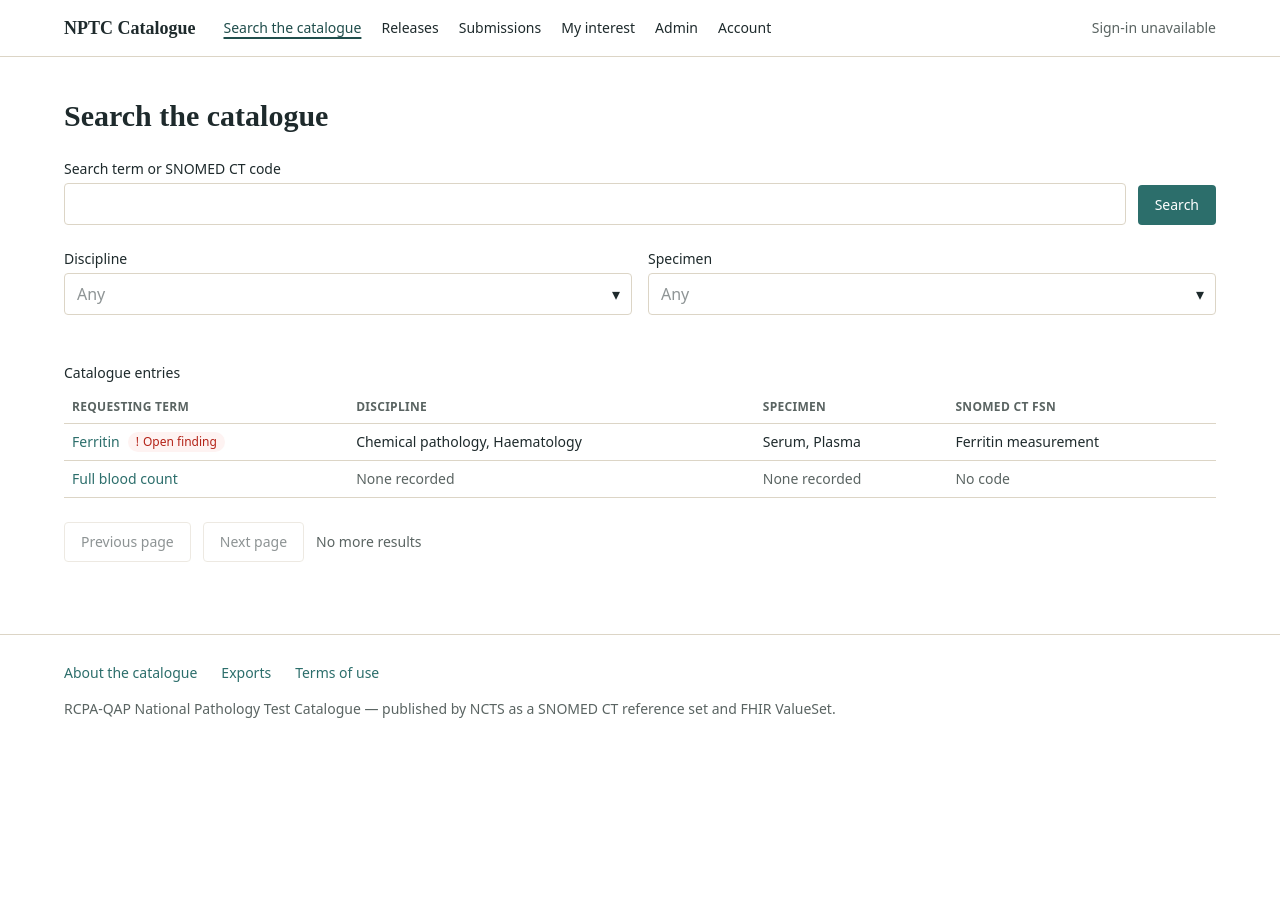
it: CatalogueSearchPage › lists each option with its count, most common first, and narrows as the user types
Click the dropdown labelled "Discipline".
click(348, 294)  # box [64,272,632,314]
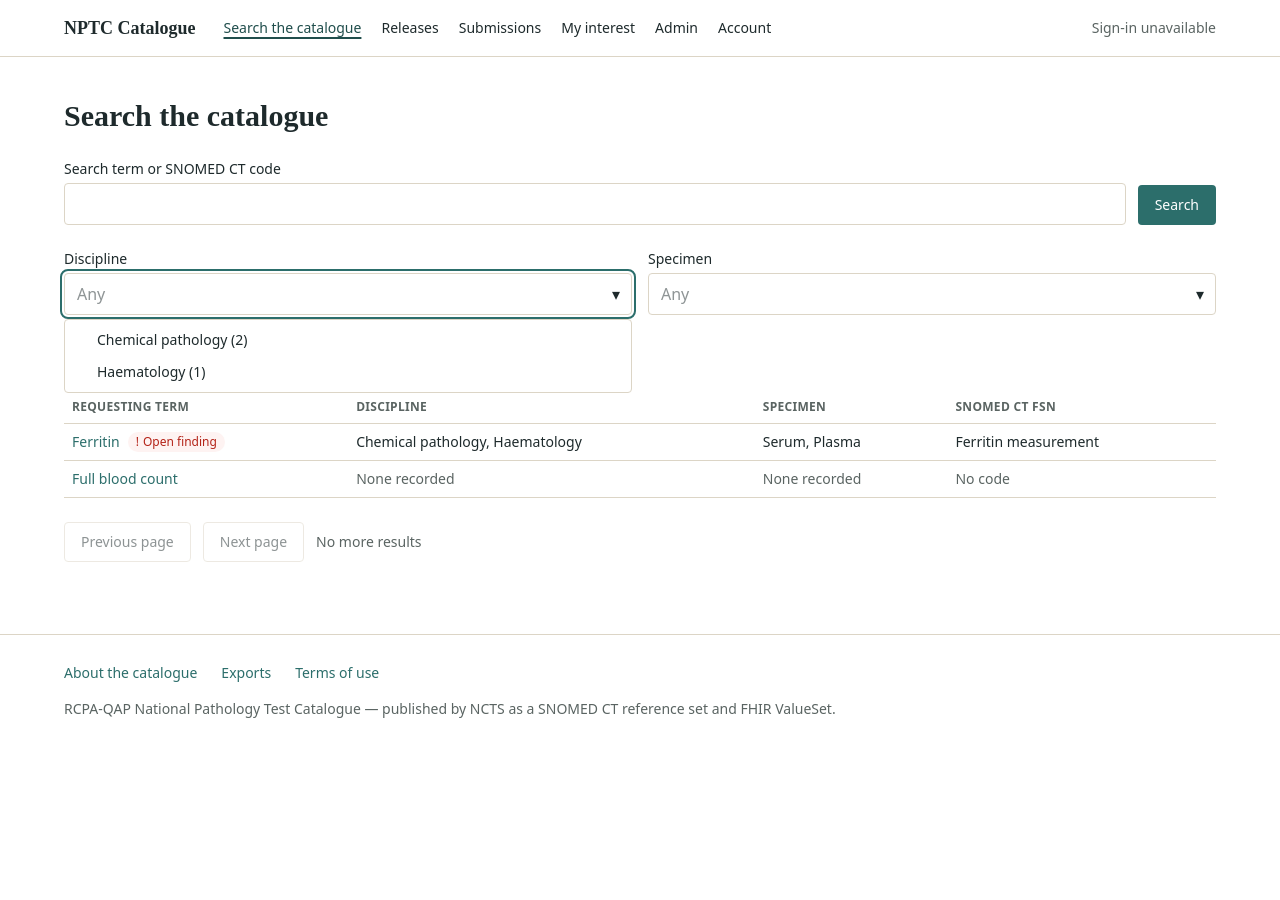
Expected: the options read "Chemical pathology (2)", "Haematology (1)", in this order, [97,330,248,349]; [97,362,206,381]
Type "haem" into the dropdown labelled "Discipline".
click(348, 294); type("haem")  # box [64,272,632,314]
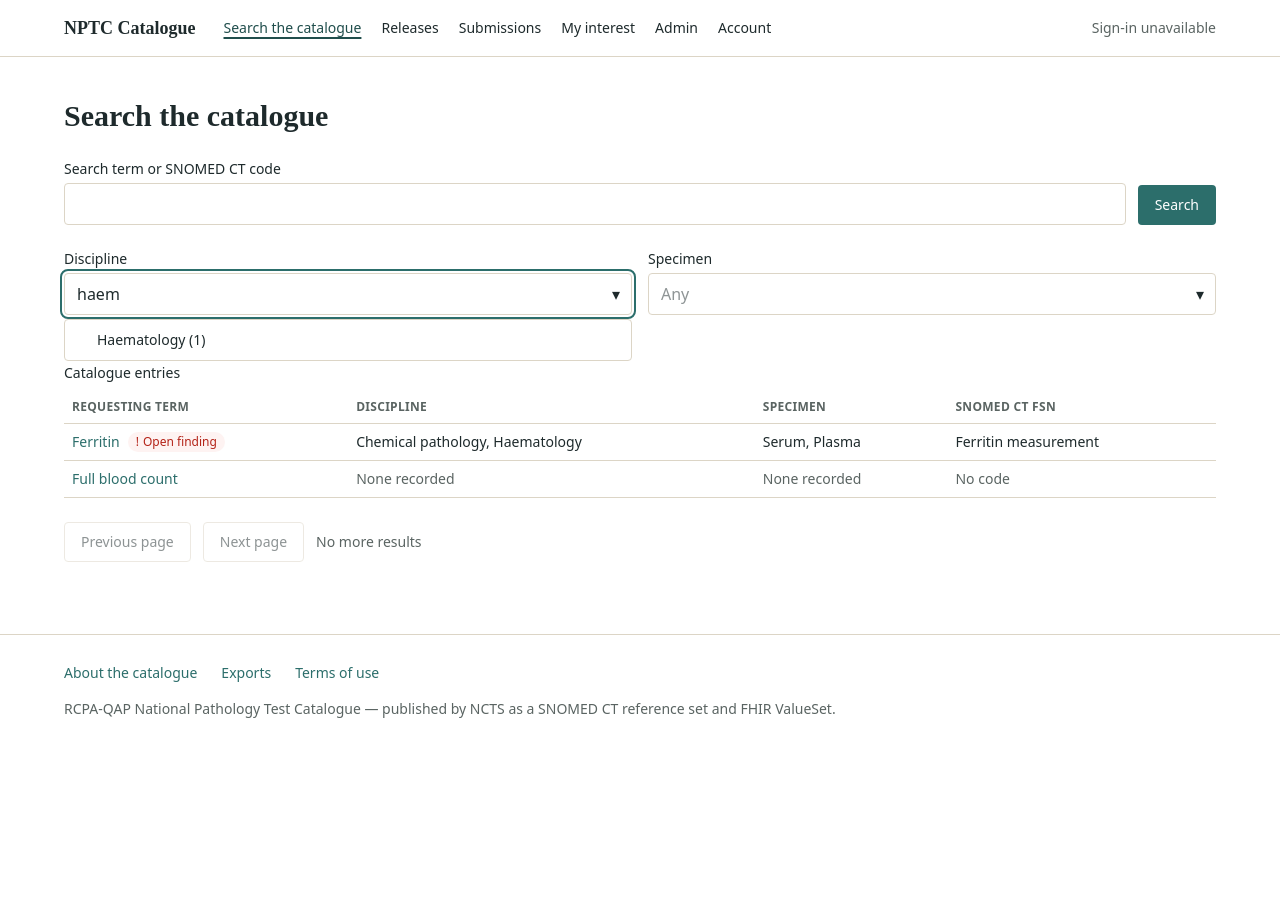
Expected: the number of options is 1, [97,330,206,349]
